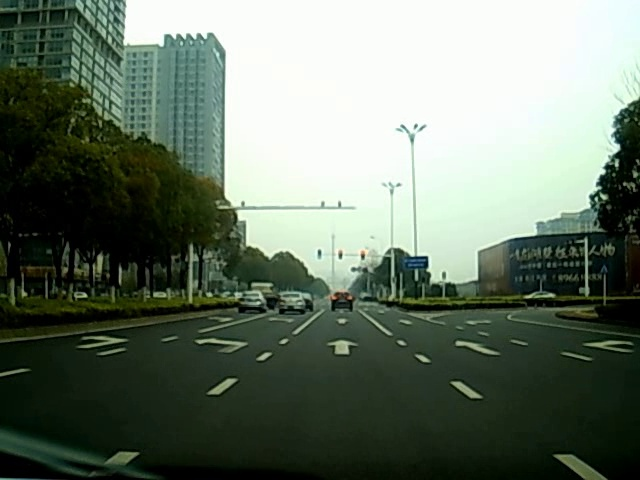Traffic_Light_stop: (359, 249, 366, 261), (337, 249, 344, 261)
